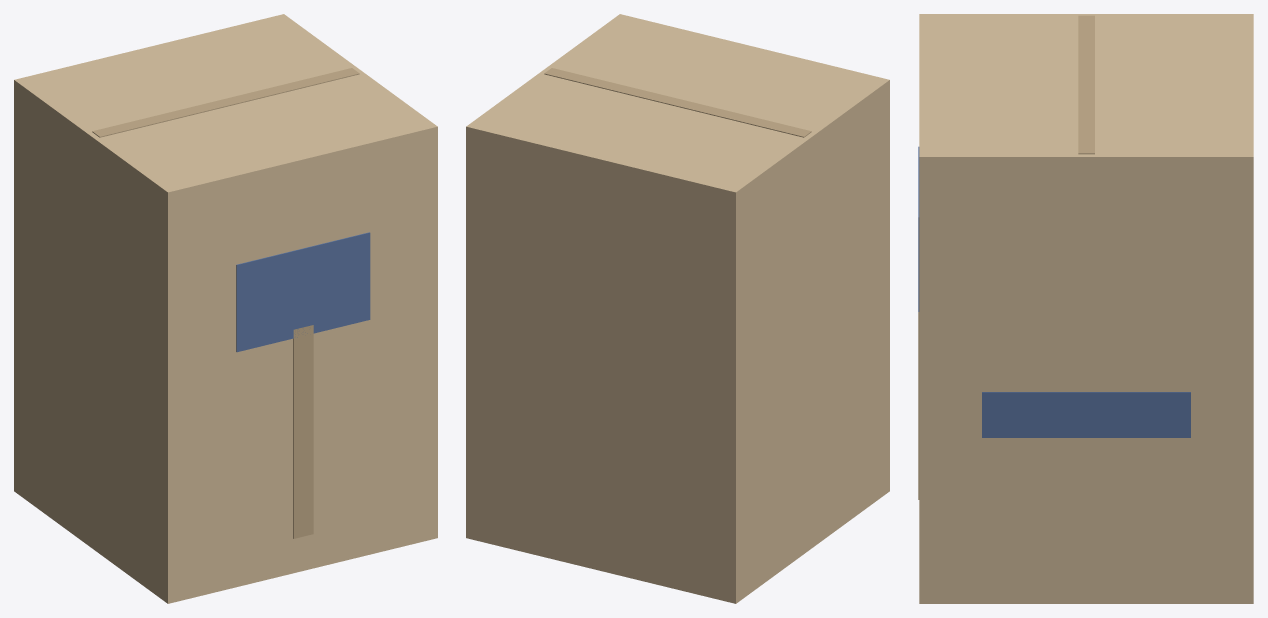
The model's file is dm_appliancebox.glb.
3 views of the same model, side by side, from view 1: azimuth 30°, elevation 25°; view 2: azimuth 150°, elevation 25°; view 3: azimuth 270°, elevation 25° (orthographic). The views are drawn at different scales.
Visible parts, largest first — view 1: dm_appliancebox; view 2: dm_appliancebox; view 3: dm_appliancebox.
Boxes of the visible parts, left/top/right/bottom form: dm_appliancebox: left=14, top=14, right=437, bottom=603; dm_appliancebox: left=466, top=14, right=889, bottom=603; dm_appliancebox: left=918, top=14, right=1253, bottom=603.
Bounding box in the file's own units: 0.813 × 1.18 × 0.803.
